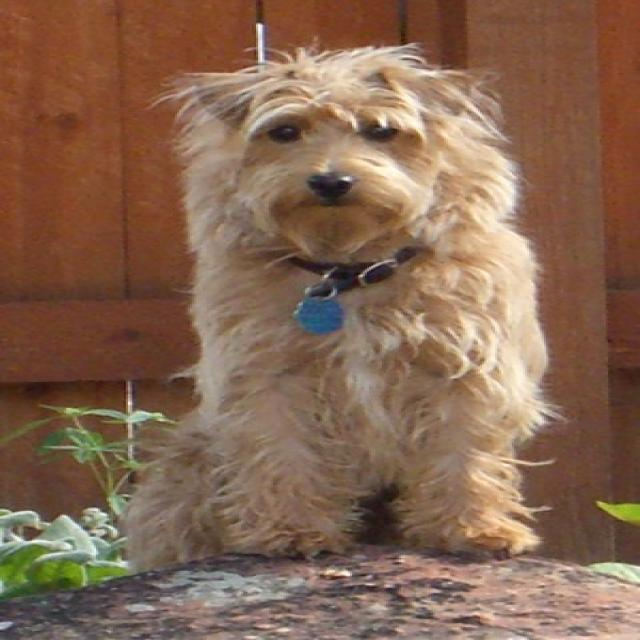dog: (125, 26, 609, 307)
